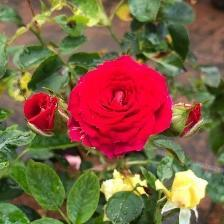rose: (69, 56, 175, 163), (19, 89, 61, 135)
